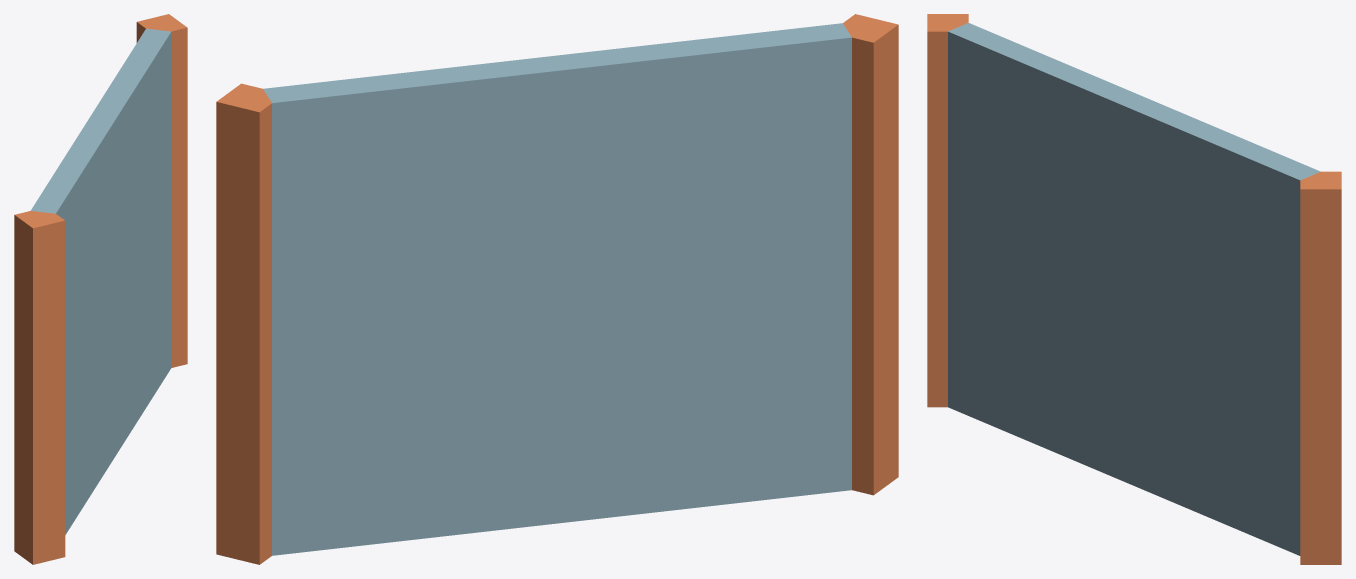
File: wallDiagonal.obj
3 views of the same model, side by side, from view 1: azimuth 30°, elevation 25°; view 2: azimuth 150°, elevation 25°; view 3: azimuth 270°, elevation 25° (orthographic). The views are drawn at different scales.
Parts seen in each view (by area): view 1: wallDiagonal; view 2: wallDiagonal; view 3: wallDiagonal.
Boxes of the visible parts, x1=… form: wallDiagonal: x1=14, y1=14, x2=187, y2=564; wallDiagonal: x1=216, y1=14, x2=898, y2=564; wallDiagonal: x1=927, y1=14, x2=1341, y2=564.
Size of the model in its own units: 1 by 1 by 1.
